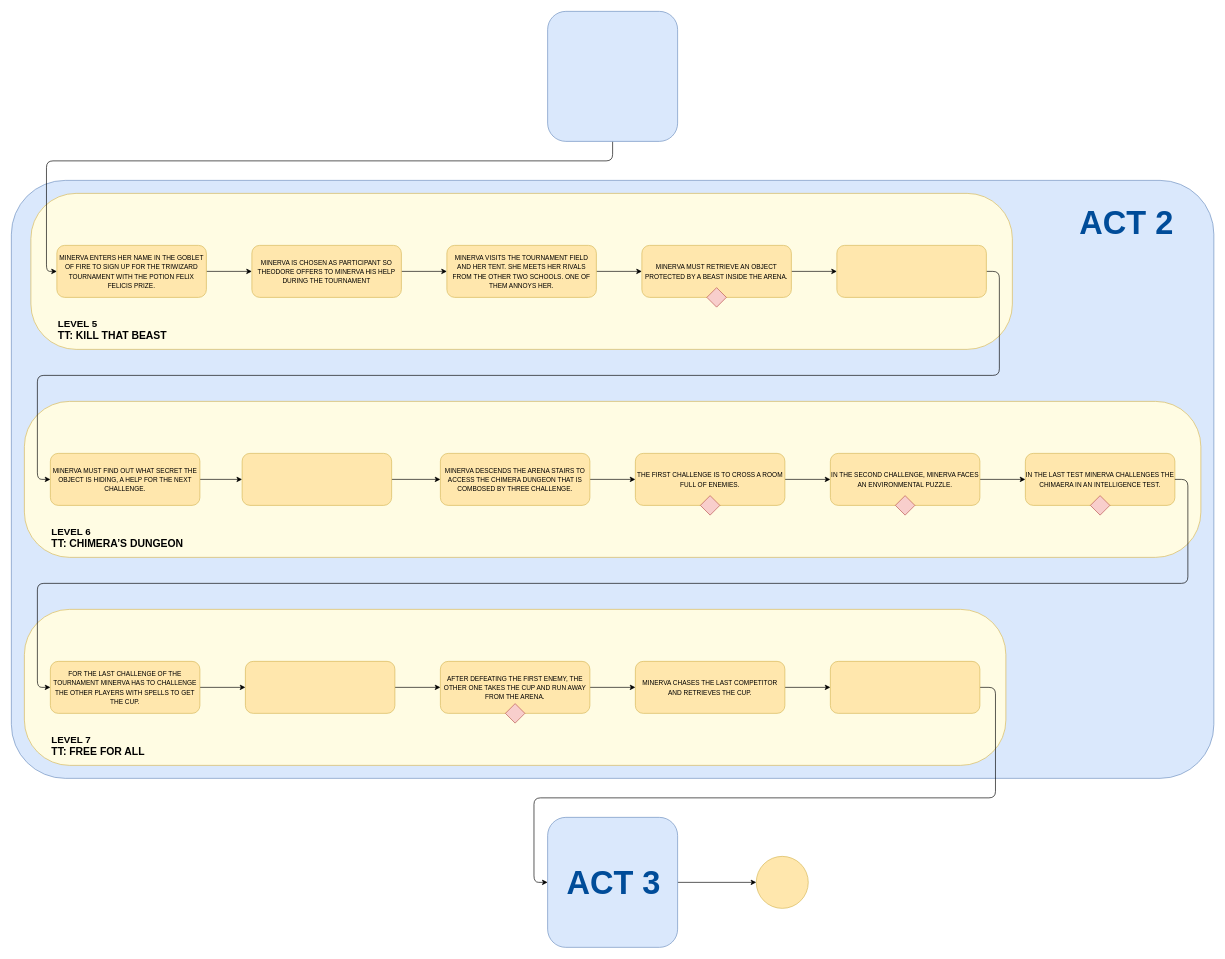
Image size: 1225x959. Some labels were removed from this diagram. The centre of each missing label's shape, as x and y in pixels:
"ACT 1" belongs at (612,76).
"AFTER TALKING AGAIN WITH HIS CHALLENGERS MINERVA HEADS BACK TO THE ARENA." belongs at (316,479).
"AFTER TALKING AGAIN WITH HIS RIVALS MINERVA HEADS BACK TO THE ARENA." belongs at (320,687).
"END" belongs at (782,882).
"MINERVA DEFEAT THE BEAST AND TAKE THE OBJECT." belongs at (911,271).
"MINERVA WINS THE TOURNAMENT AND THE POTION." belongs at (905,687).
